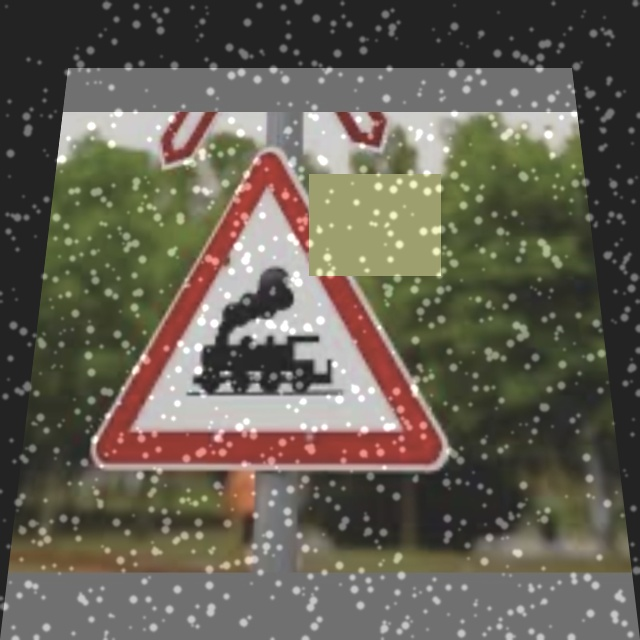Unguarded_Level_Crossing: (74, 158, 471, 477)
